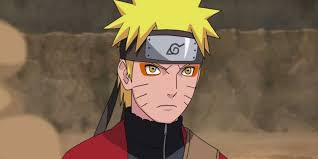Naruto: (121, 3, 204, 123)
